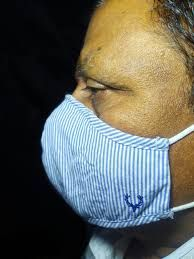with-mask: (27, 8, 194, 236)
